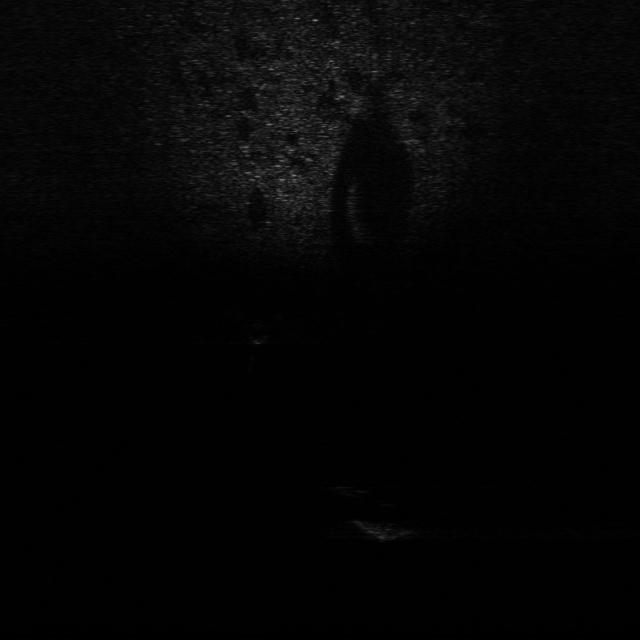ball: (243, 322, 273, 348)
metal bucket: (352, 520, 418, 544)
tyre: (319, 477, 403, 510)
